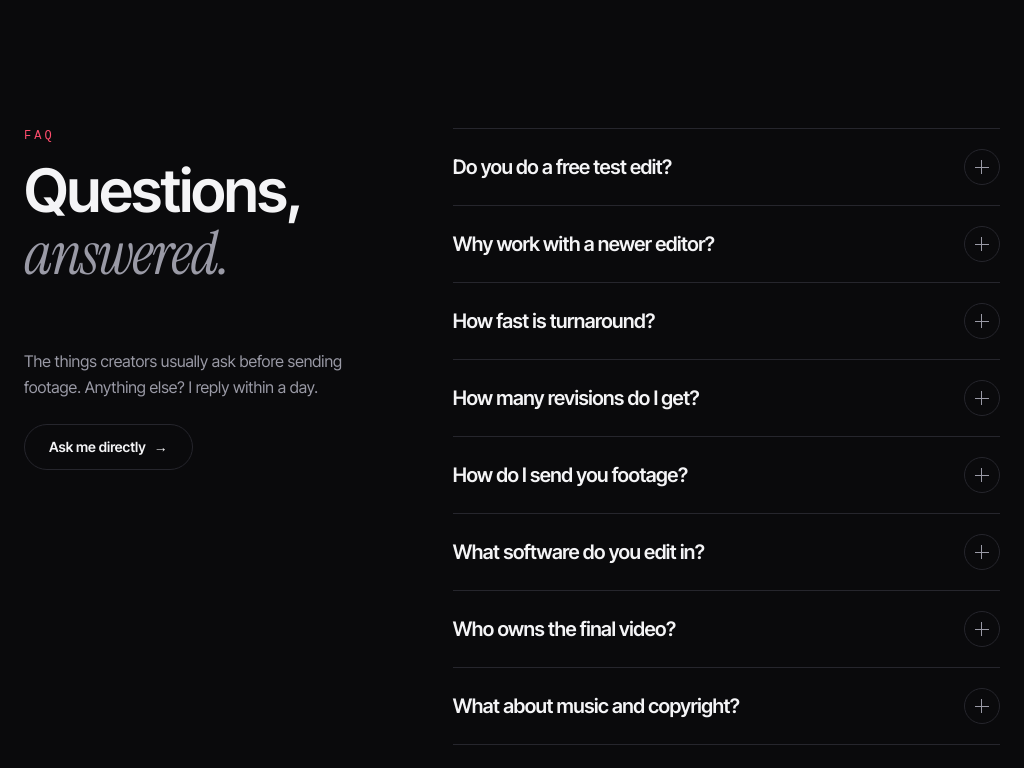
Test: FAQ › toggles an answer open and closed
Click the button "Do you do a free test edit?".
click(562, 167)  # box [453,129,1000,205]
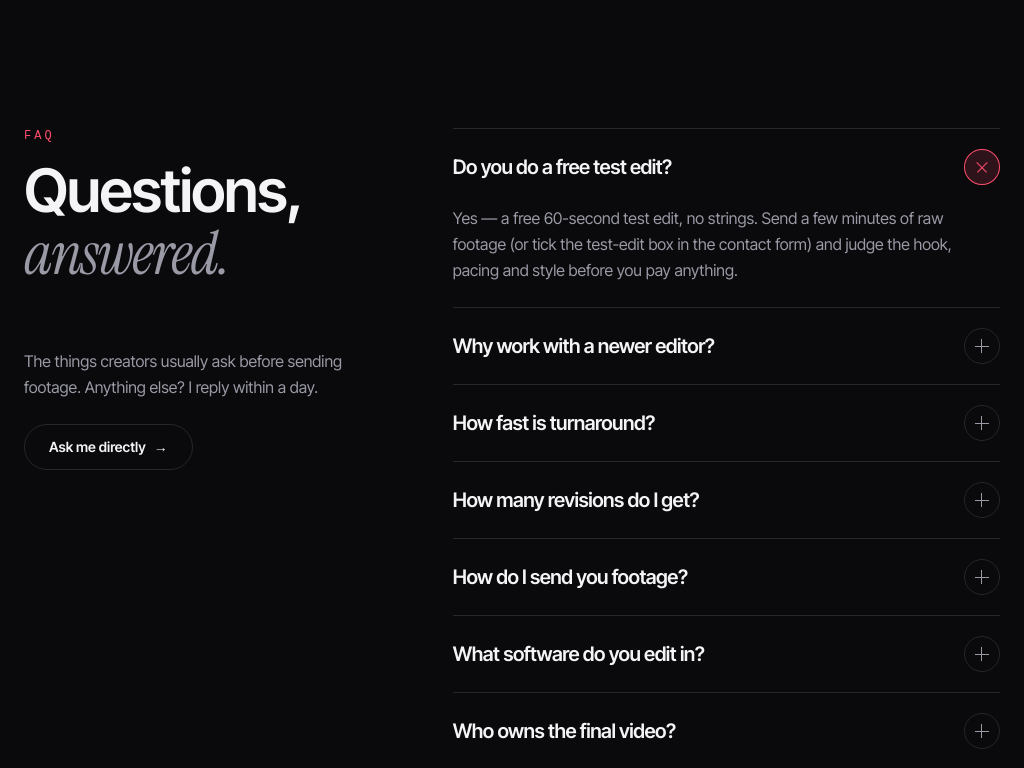
Now the button "Do you do a free test edit?" is expanded
Now the element named "Do you do a free test edit?" is shown, box [453,205,1000,307]
Now the element named "Do you do a free test edit?" shows "Yes — a free 60-second test edit, no strings. Send a few minutes of raw footage (or tick the test-edit box in the contact form) and judge the hook, pacing and s", box [453,208,952,280]
Click the button "Do you do a free test edit?".
click(562, 167)  # box [453,129,1000,205]
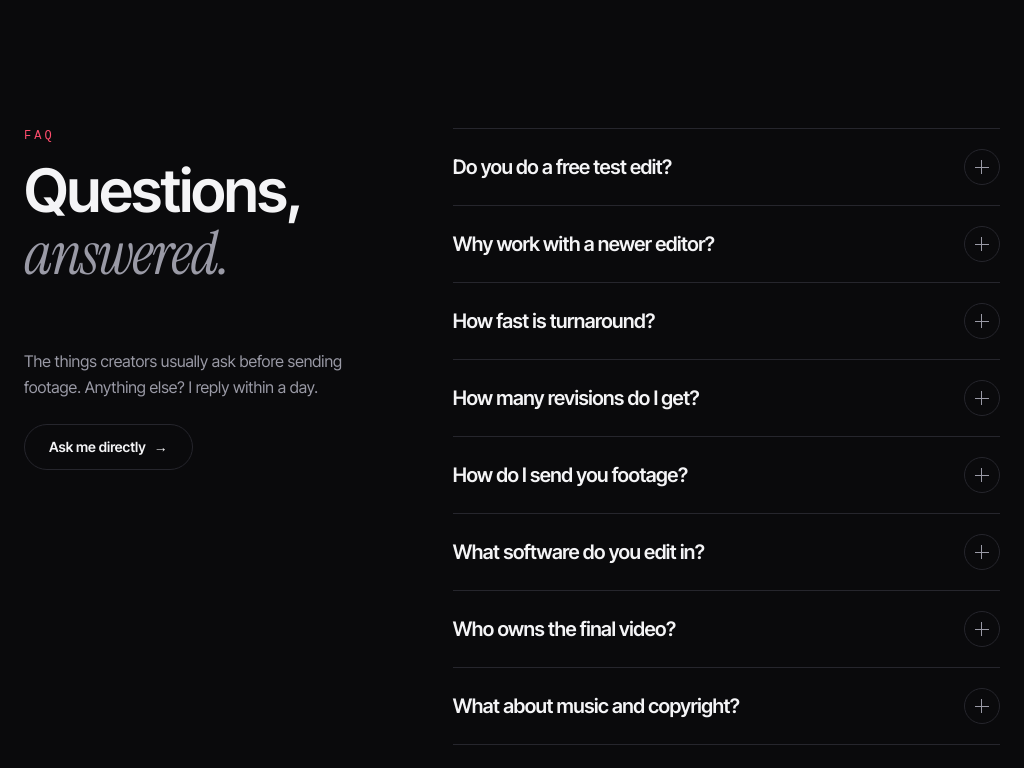
Now the button "Do you do a free test edit?" is collapsed, box [453,129,1000,205]
